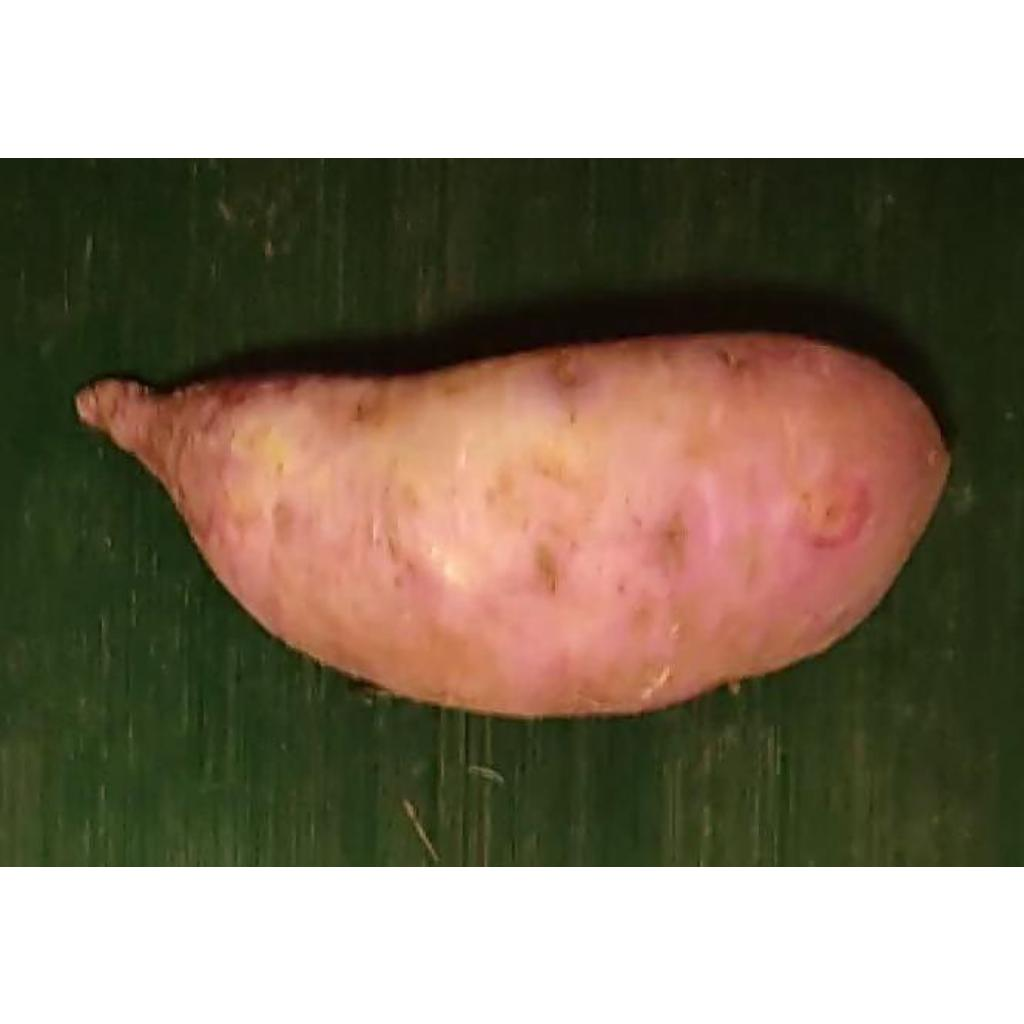Sweet Potato: (74, 330, 953, 718)
